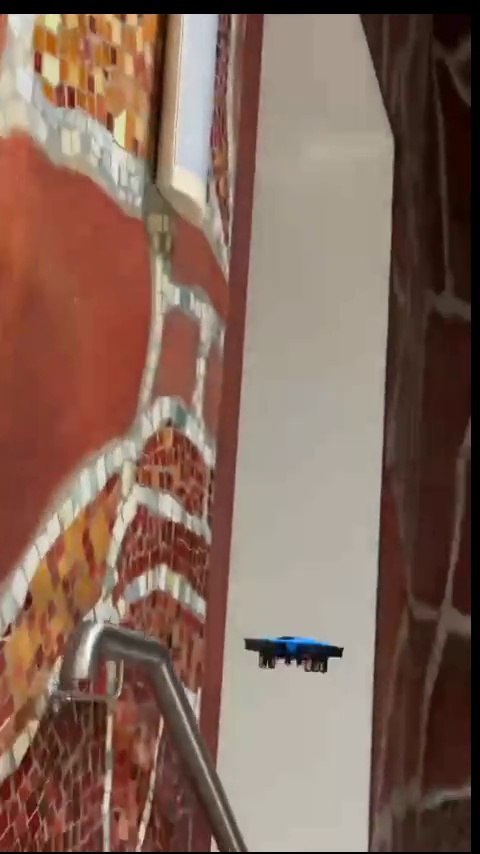drone: (246, 634, 345, 674)
